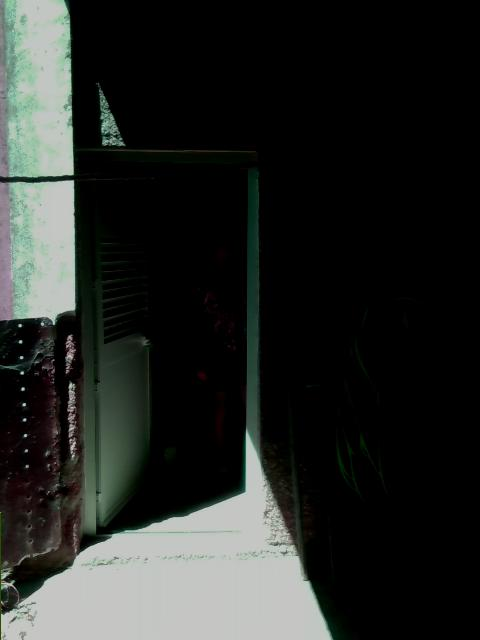semi_door: (73, 146, 260, 537)
